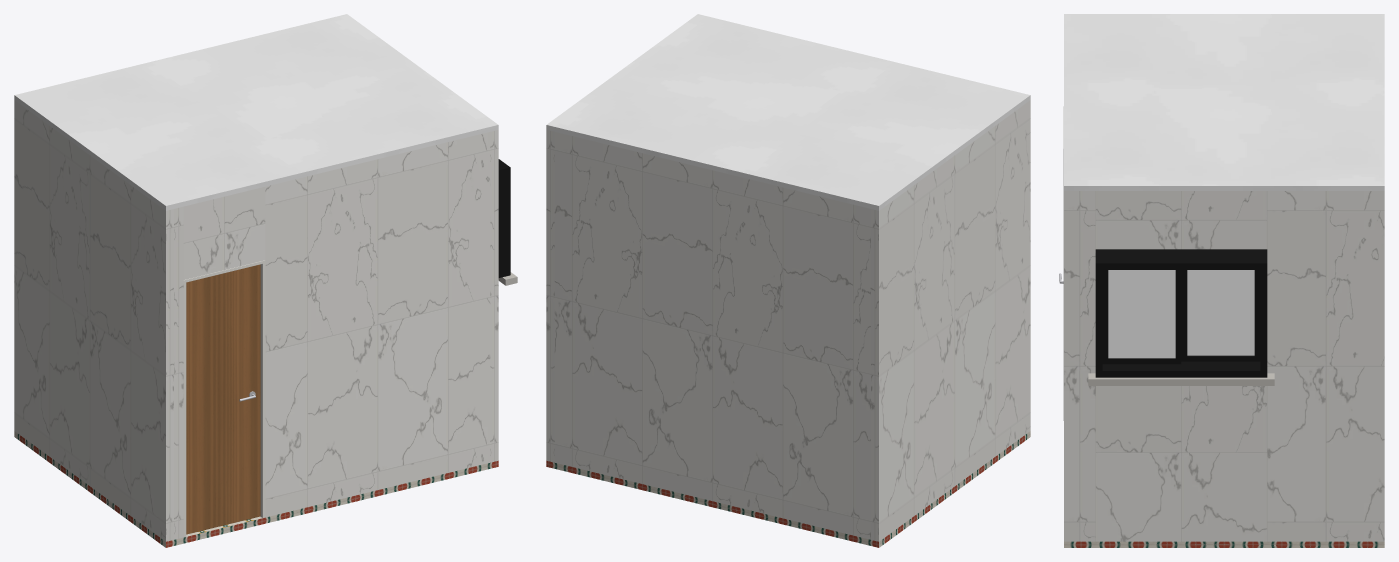
File: banheiro.glb
3 renders of one model, left to right at view 1: azimuth 30°, elevation 25°; view 2: azimuth 150°, elevation 25°; view 3: azimuth 270°, elevation 25°, orthographic. The views are drawn at different scales.
Parts seen in each view (by area): view 1: Banheiro_ParedeDir.002, Banheiro_ParedeFrente, Banheiro_Teto, Banheiro_Porta_Folha, Banheiro_ParedeDir.001, Banheiro_Piso, Banheiro_ParedeDir, Banheiro_ParedeFundo.003, Jan_Banheiro_Vazada, Banheiro_Porta_Batente_D, Banheiro_Porta_Batente_E; view 2: Banheiro_ParedeEsq, Banheiro_ParedeFrente, Banheiro_Teto, Banheiro_Piso, Banheiro_ParedeFundo; view 3: Banheiro_Teto, Banheiro_ParedeFundo, Banheiro_ParedeFundo.001, Jan_Banheiro_Vazada, Jan_Banheiro_Vazada_Vidro, Banheiro_ParedeFundo.003, Banheiro_ParedeFundo.002, Banheiro_Piso.
Part boxes in pixels (x1,y1,x2,y2): Banheiro_ParedeDir.002: (265,132,490,517); Banheiro_ParedeFrente: (14,100,173,541); Banheiro_Teto: (14,14,498,210); Banheiro_Porta_Folha: (186,264,260,534); Banheiro_ParedeDir.001: (183,187,265,279); Banheiro_Piso: (14,431,498,547); Banheiro_ParedeDir: (174,206,183,539); Banheiro_ParedeFundo.003: (490,130,498,462); Jan_Banheiro_Vazada: (498,159,517,285); Banheiro_Porta_Batente_D: (260,263,265,517); Banheiro_Porta_Batente_E: (183,280,186,537); Banheiro_ParedeEsq: (554,132,870,539); Banheiro_ParedeFrente: (871,100,1030,541); Banheiro_Teto: (546,14,1030,210); Banheiro_Piso: (546,431,1030,547); Banheiro_ParedeFundo: (546,130,554,462); Banheiro_Teto: (1064,14,1384,190); Banheiro_ParedeFundo: (1267,191,1384,541); Banheiro_ParedeFundo.001: (1095,386,1267,541); Jan_Banheiro_Vazada: (1088,249,1274,385); Jan_Banheiro_Vazada_Vidro: (1108,270,1254,358); Banheiro_ParedeFundo.003: (1064,191,1095,541); Banheiro_ParedeFundo.002: (1095,191,1267,249); Banheiro_Piso: (1064,541,1384,547).
Bounding box in the file's own units: 3.1 × 2.79 × 2.27.
Materials: 38 (15 with a texture image).
